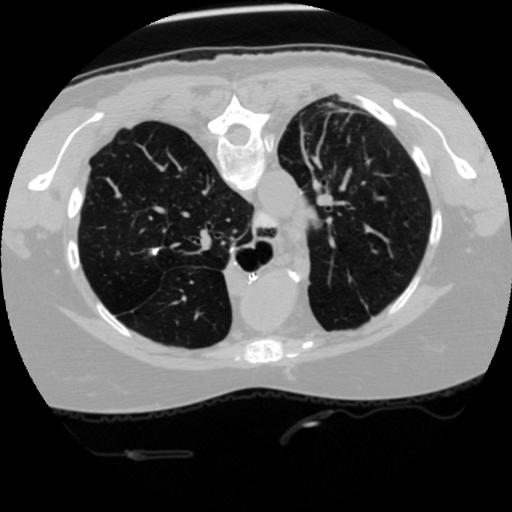nodule: (147, 245, 162, 260)
